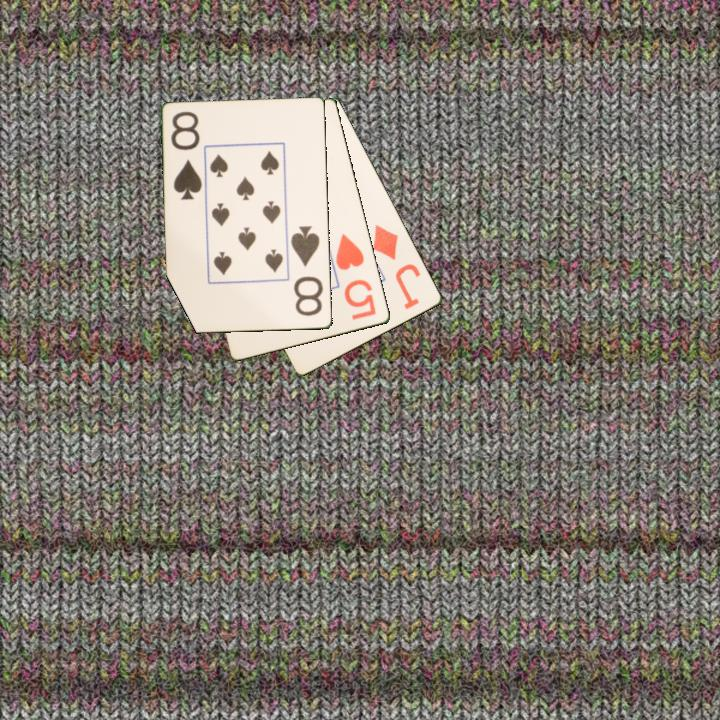5h: (332, 230, 379, 323)
8s: (288, 222, 326, 319), (168, 108, 205, 203)
Jd: (369, 221, 424, 313)
